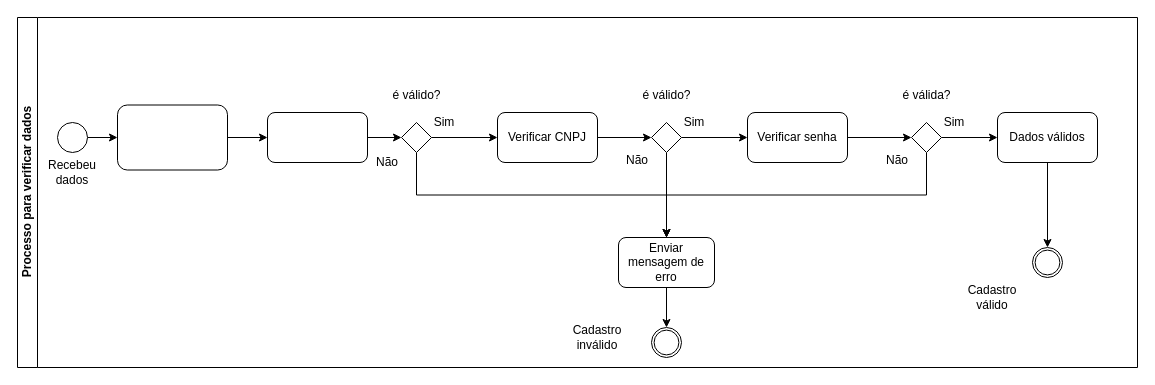
The diagram is 1155 pixels wide and 385 high, and some of its shapes have lost their labels. Each missing label, with the box of its shape:
Selecionar dados do usuário: (116, 104, 228, 170)
Verificar e-mail: (266, 112, 368, 162)
